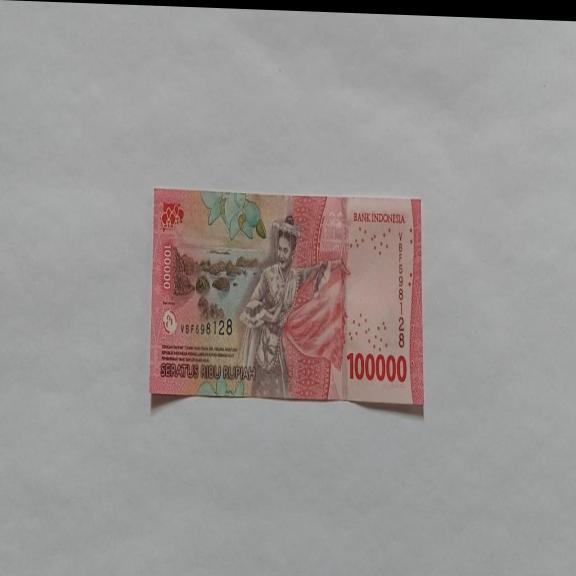Kertas: (148, 186, 424, 412), (346, 349, 407, 384)
